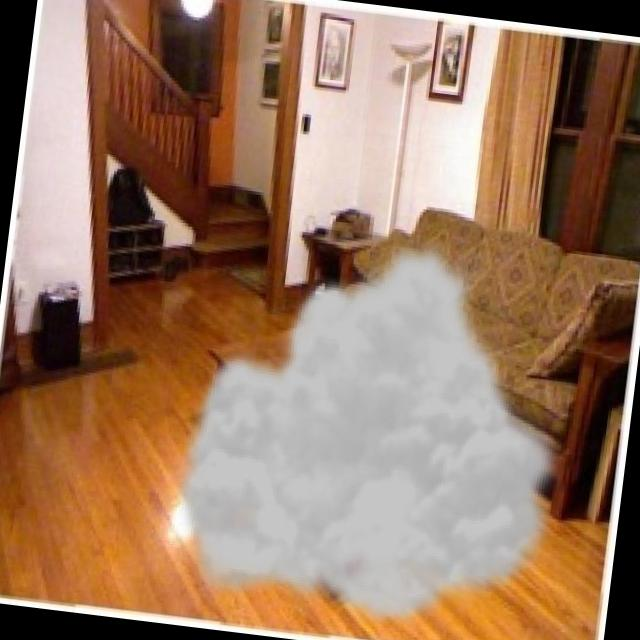Smoke: (156, 208, 596, 640)
